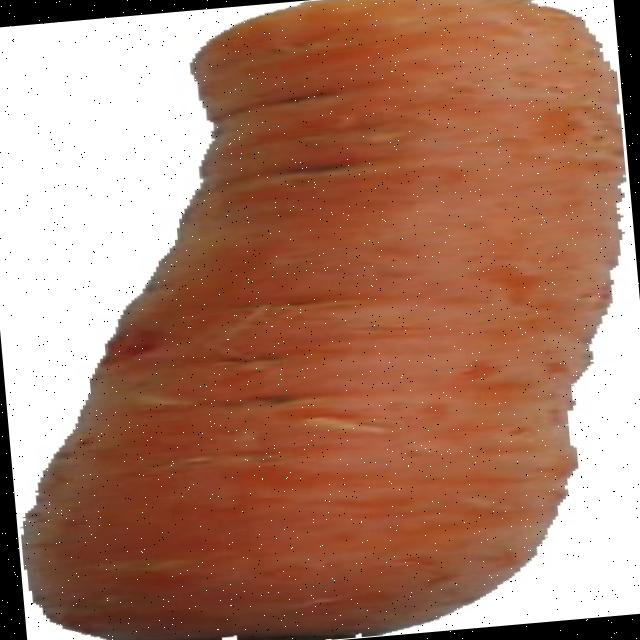carrot: (25, 0, 622, 640)
